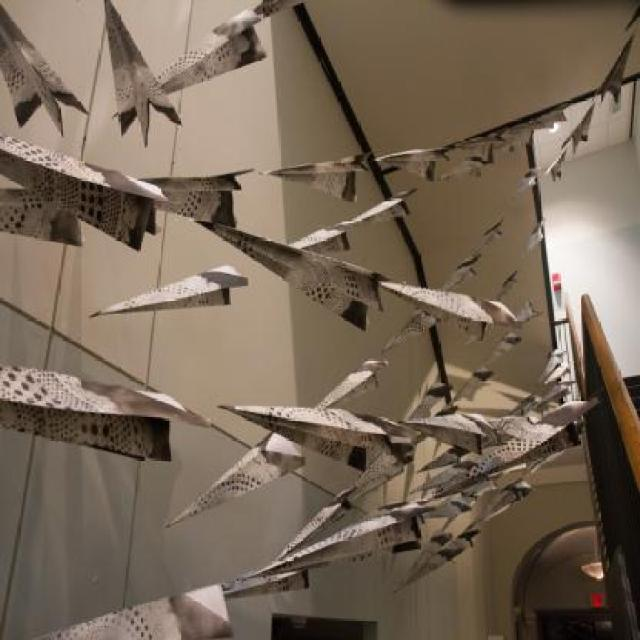stair: (577, 374, 640, 640)
